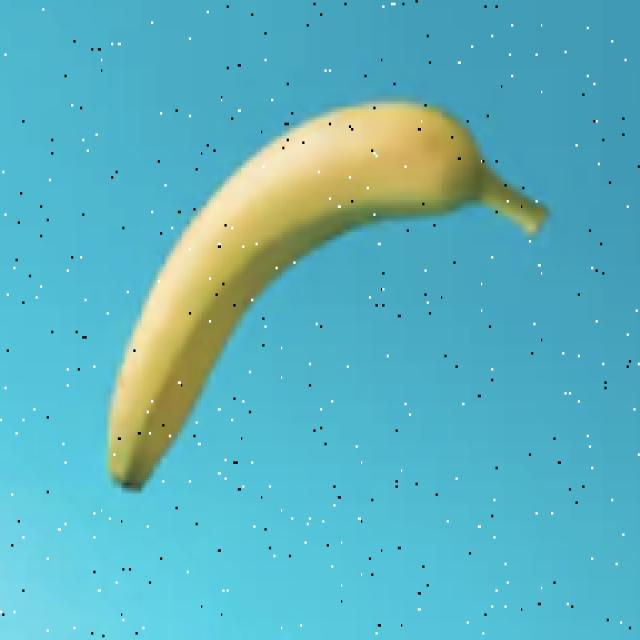Banana: (106, 100, 549, 491)
